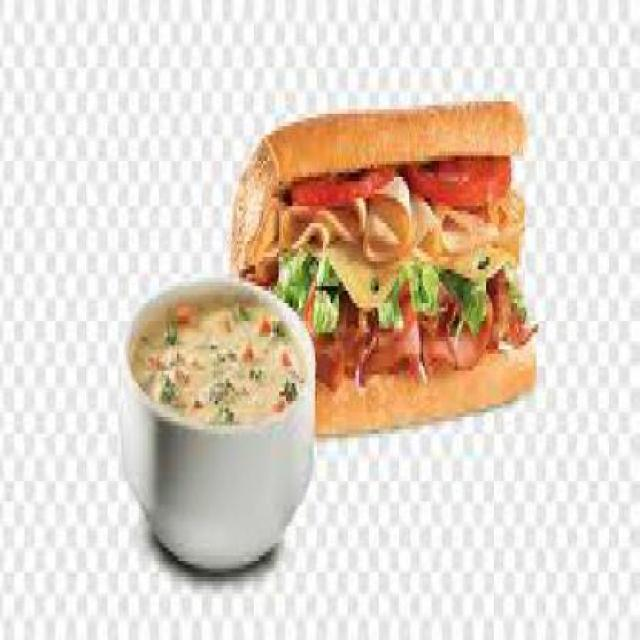clam chowder: (115, 265, 319, 573)
club sandwich: (234, 63, 552, 422)
